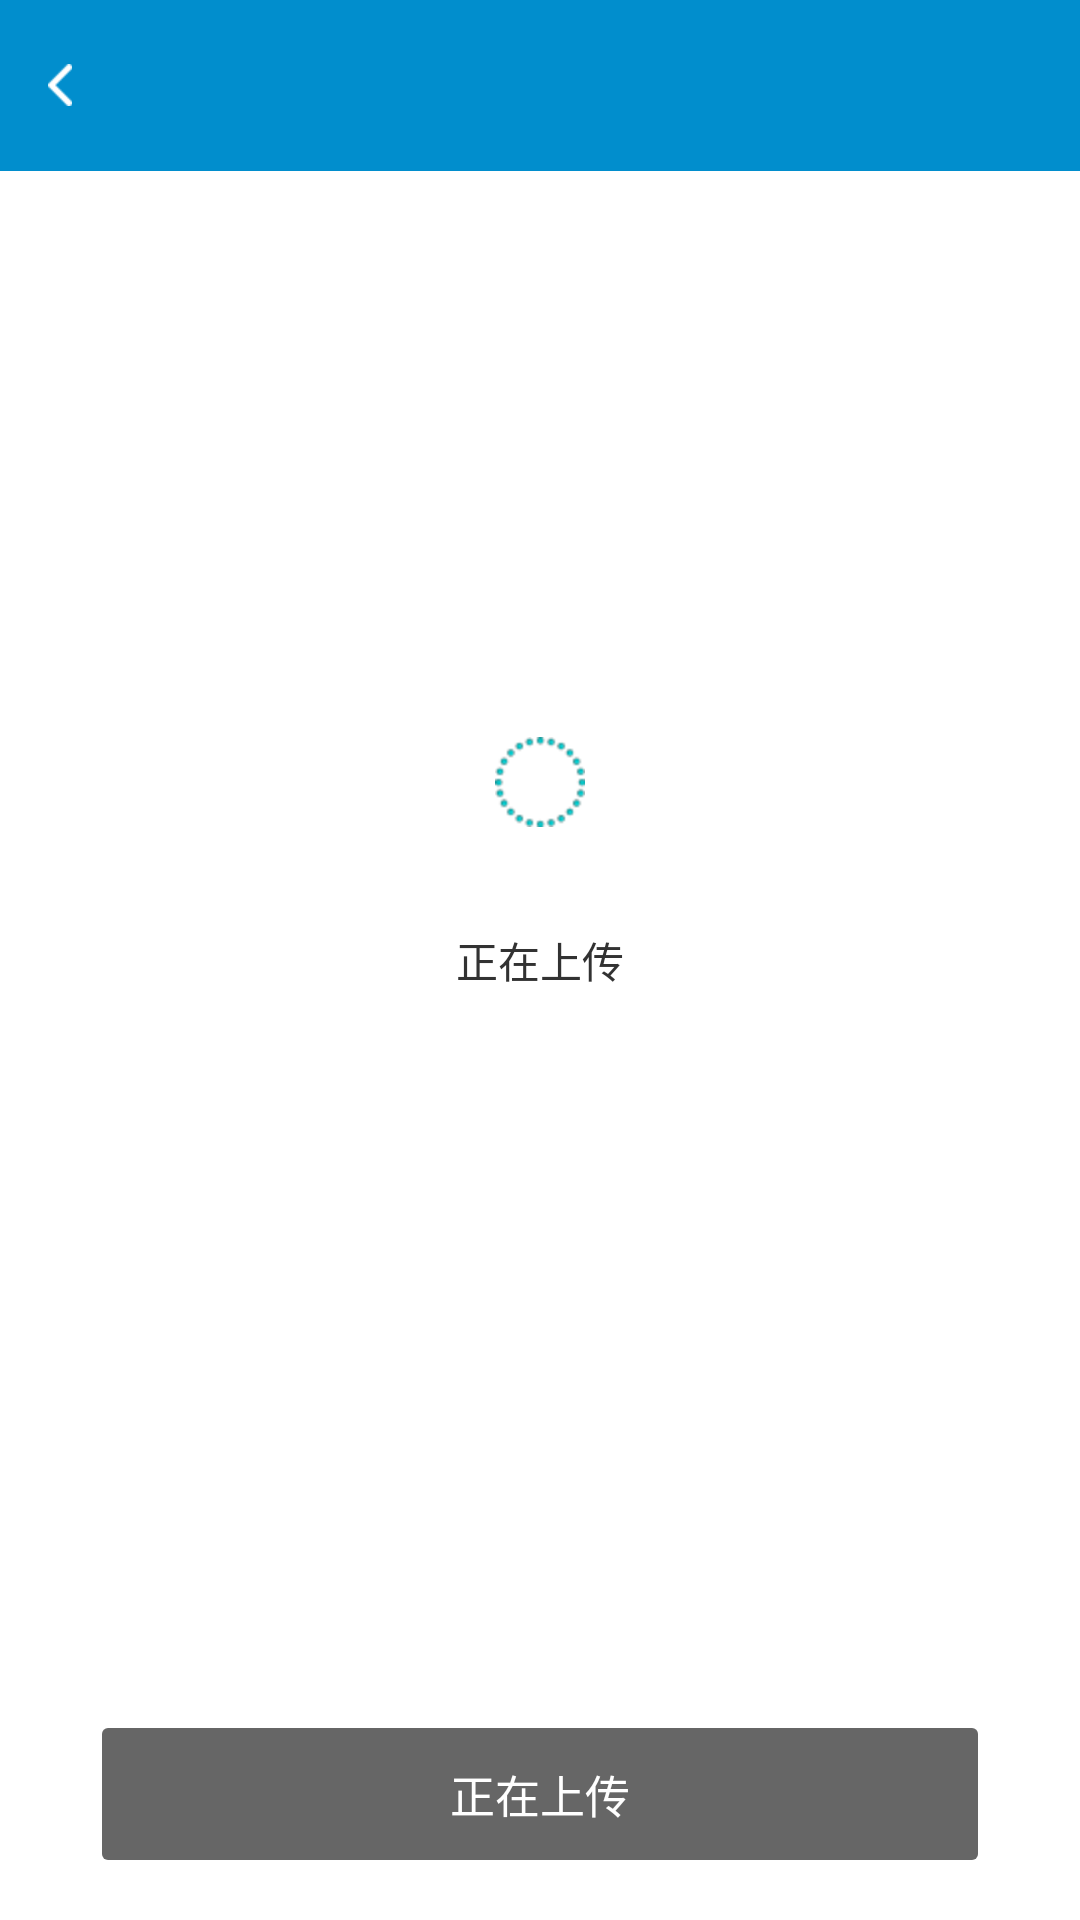

Named icons in this screenshot (1080px×1920px) and their bounding boxes, (x1, y1, x2, y2):
back: (48, 64, 72, 106)
loading process: (495, 737, 585, 827)
